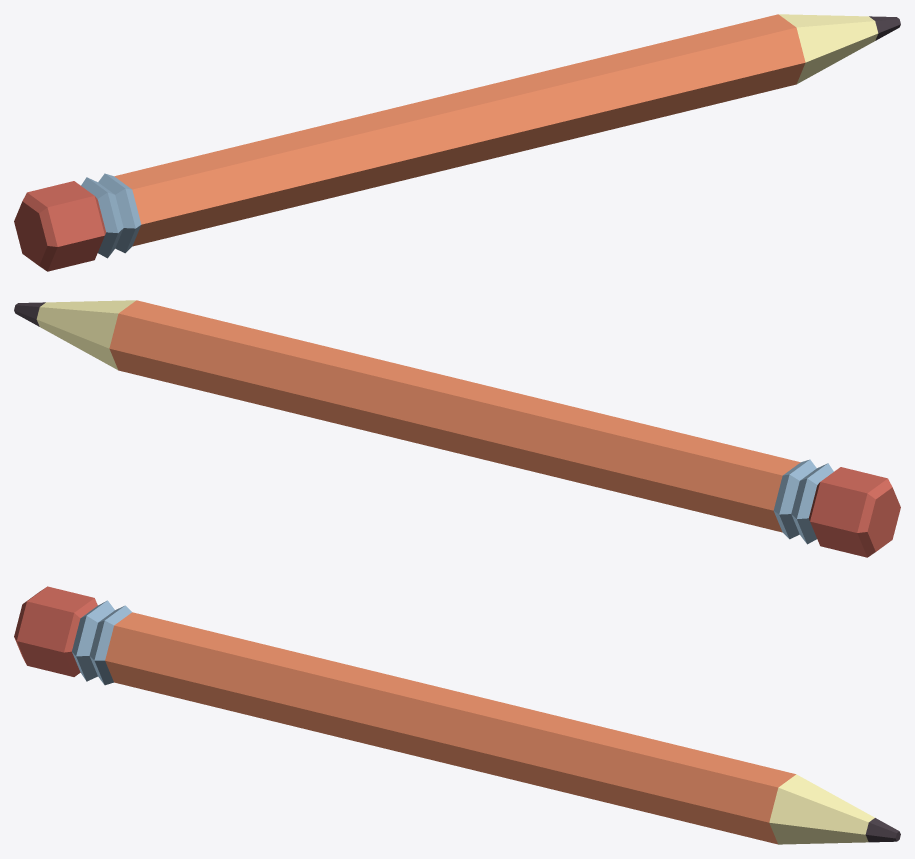
File: Pencil.fbx
3 renders of one model, top to bottom at view 1: azimuth 30°, elevation 25°; view 2: azimuth 150°, elevation 25°; view 3: azimuth 330°, elevation 25°, orthographic.
Parts seen in each view (by area): view 1: Pencil; view 2: Pencil; view 3: Pencil.
Boxes of the visible parts, x1,y1,x2,y2 form: Pencil: (14,14,900,271); Pencil: (14,300,900,557); Pencil: (14,586,900,844).
Bounding box in the file's own units: 46.49 × 3.38 × 3.91.
